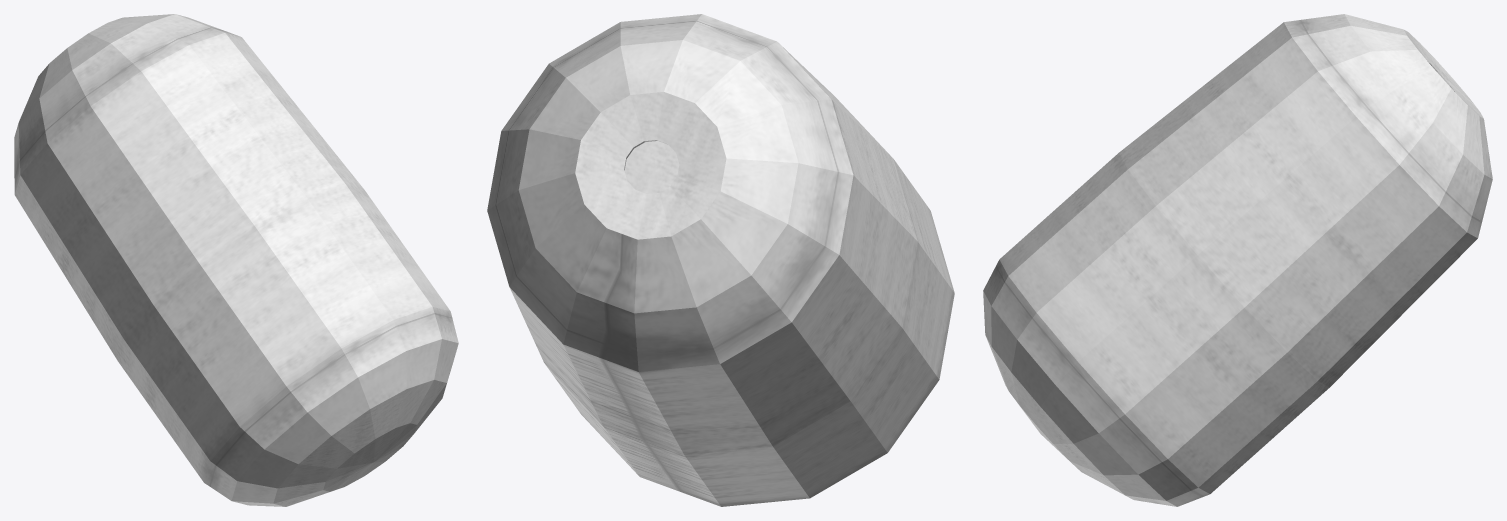
File: ISS_INT_props_Round_Bag_Large.FBX
The picture shows the model from 3 angles, left to right: view 1: azimuth 30°, elevation 25°; view 2: azimuth 150°, elevation 25°; view 3: azimuth 270°, elevation 25°; orthographic projection. The views are drawn at different scales.
Parts seen in each view (by area): view 1: Kibo_int; view 2: Kibo_int; view 3: Kibo_int.
Boxes of the visible parts, left/top/right/bottom form: Kibo_int: left=14, top=14, right=458, bottom=506; Kibo_int: left=487, top=14, right=954, bottom=506; Kibo_int: left=983, top=14, right=1492, bottom=506.
Bounding box in the file's own units: 0.0526 × 0.0676 × 0.071.
